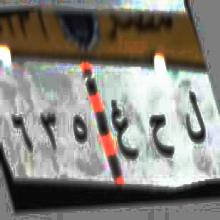3: (39, 102, 59, 164)
5: (72, 108, 87, 149)
6: (10, 108, 34, 160)
7aa: (150, 110, 176, 168)
ghayn: (110, 92, 139, 163)
laam: (184, 84, 206, 155)
